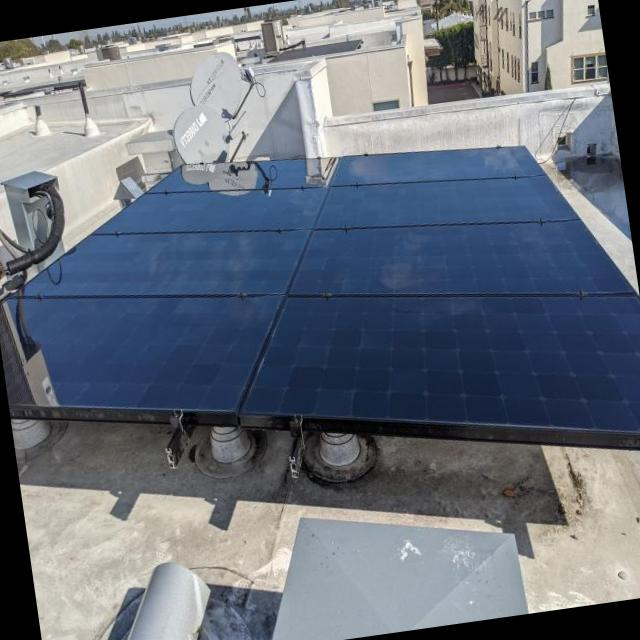no faulty: (239, 299, 640, 437), (0, 297, 281, 411), (283, 222, 638, 294), (22, 235, 304, 292), (309, 179, 576, 228), (95, 190, 319, 232), (330, 147, 544, 184), (144, 159, 329, 192)
